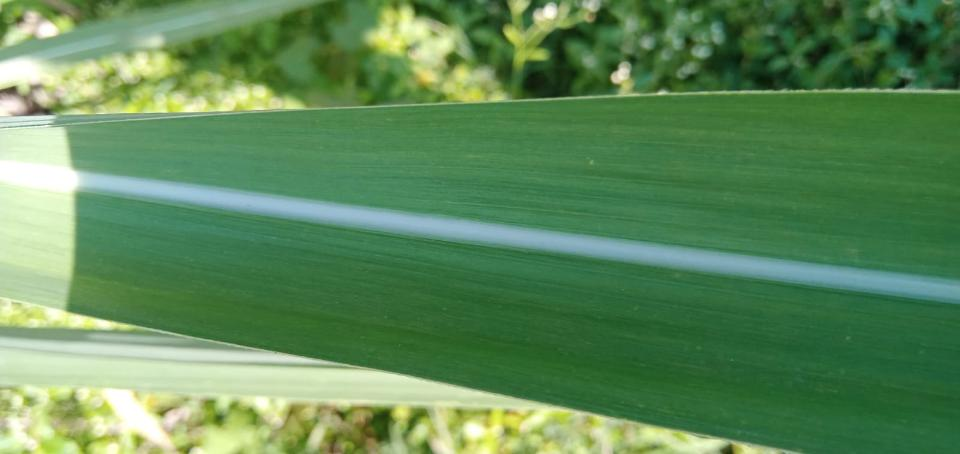Healthy: (0, 93, 959, 454)
